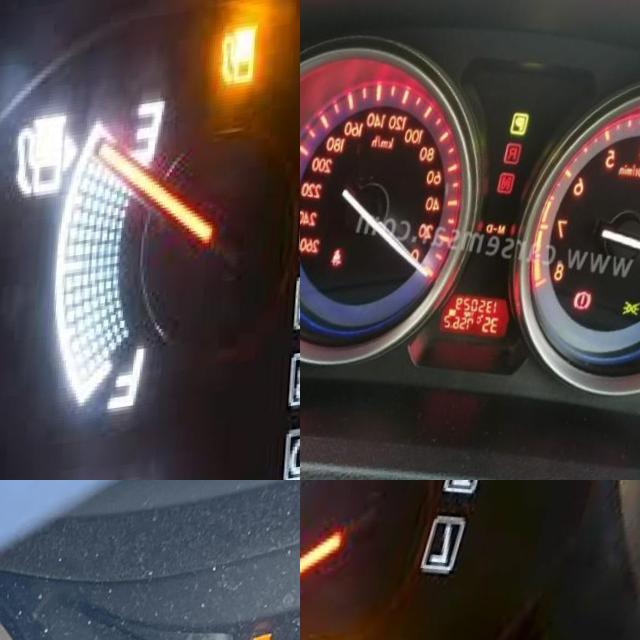Seat Belt: (336, 252, 347, 271)
